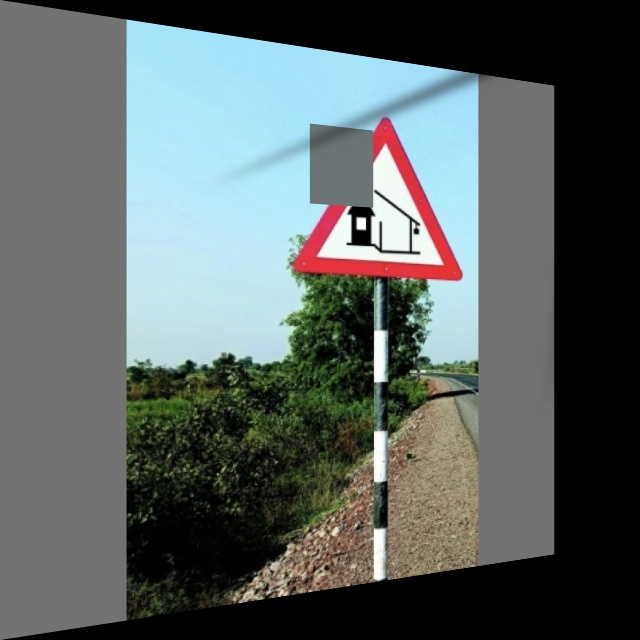Barrier_Ahead: (293, 106, 462, 291)
